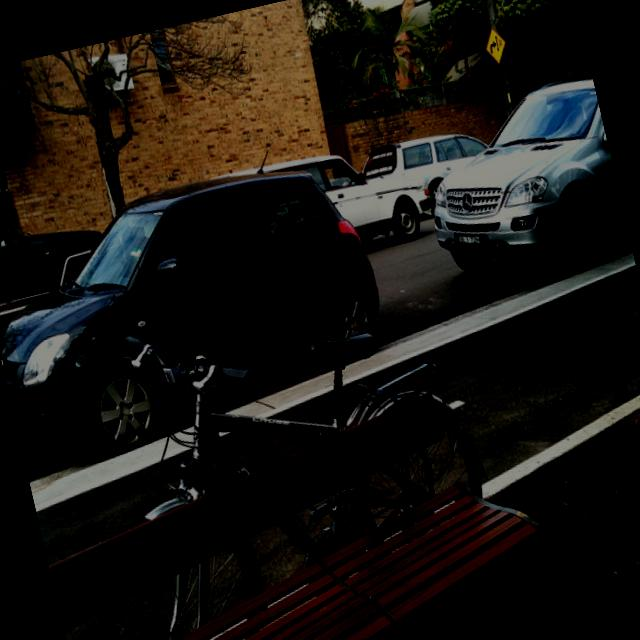Vehicle: (0, 150, 399, 470), (408, 74, 634, 298), (210, 130, 440, 282), (0, 165, 114, 323), (358, 124, 502, 228)
